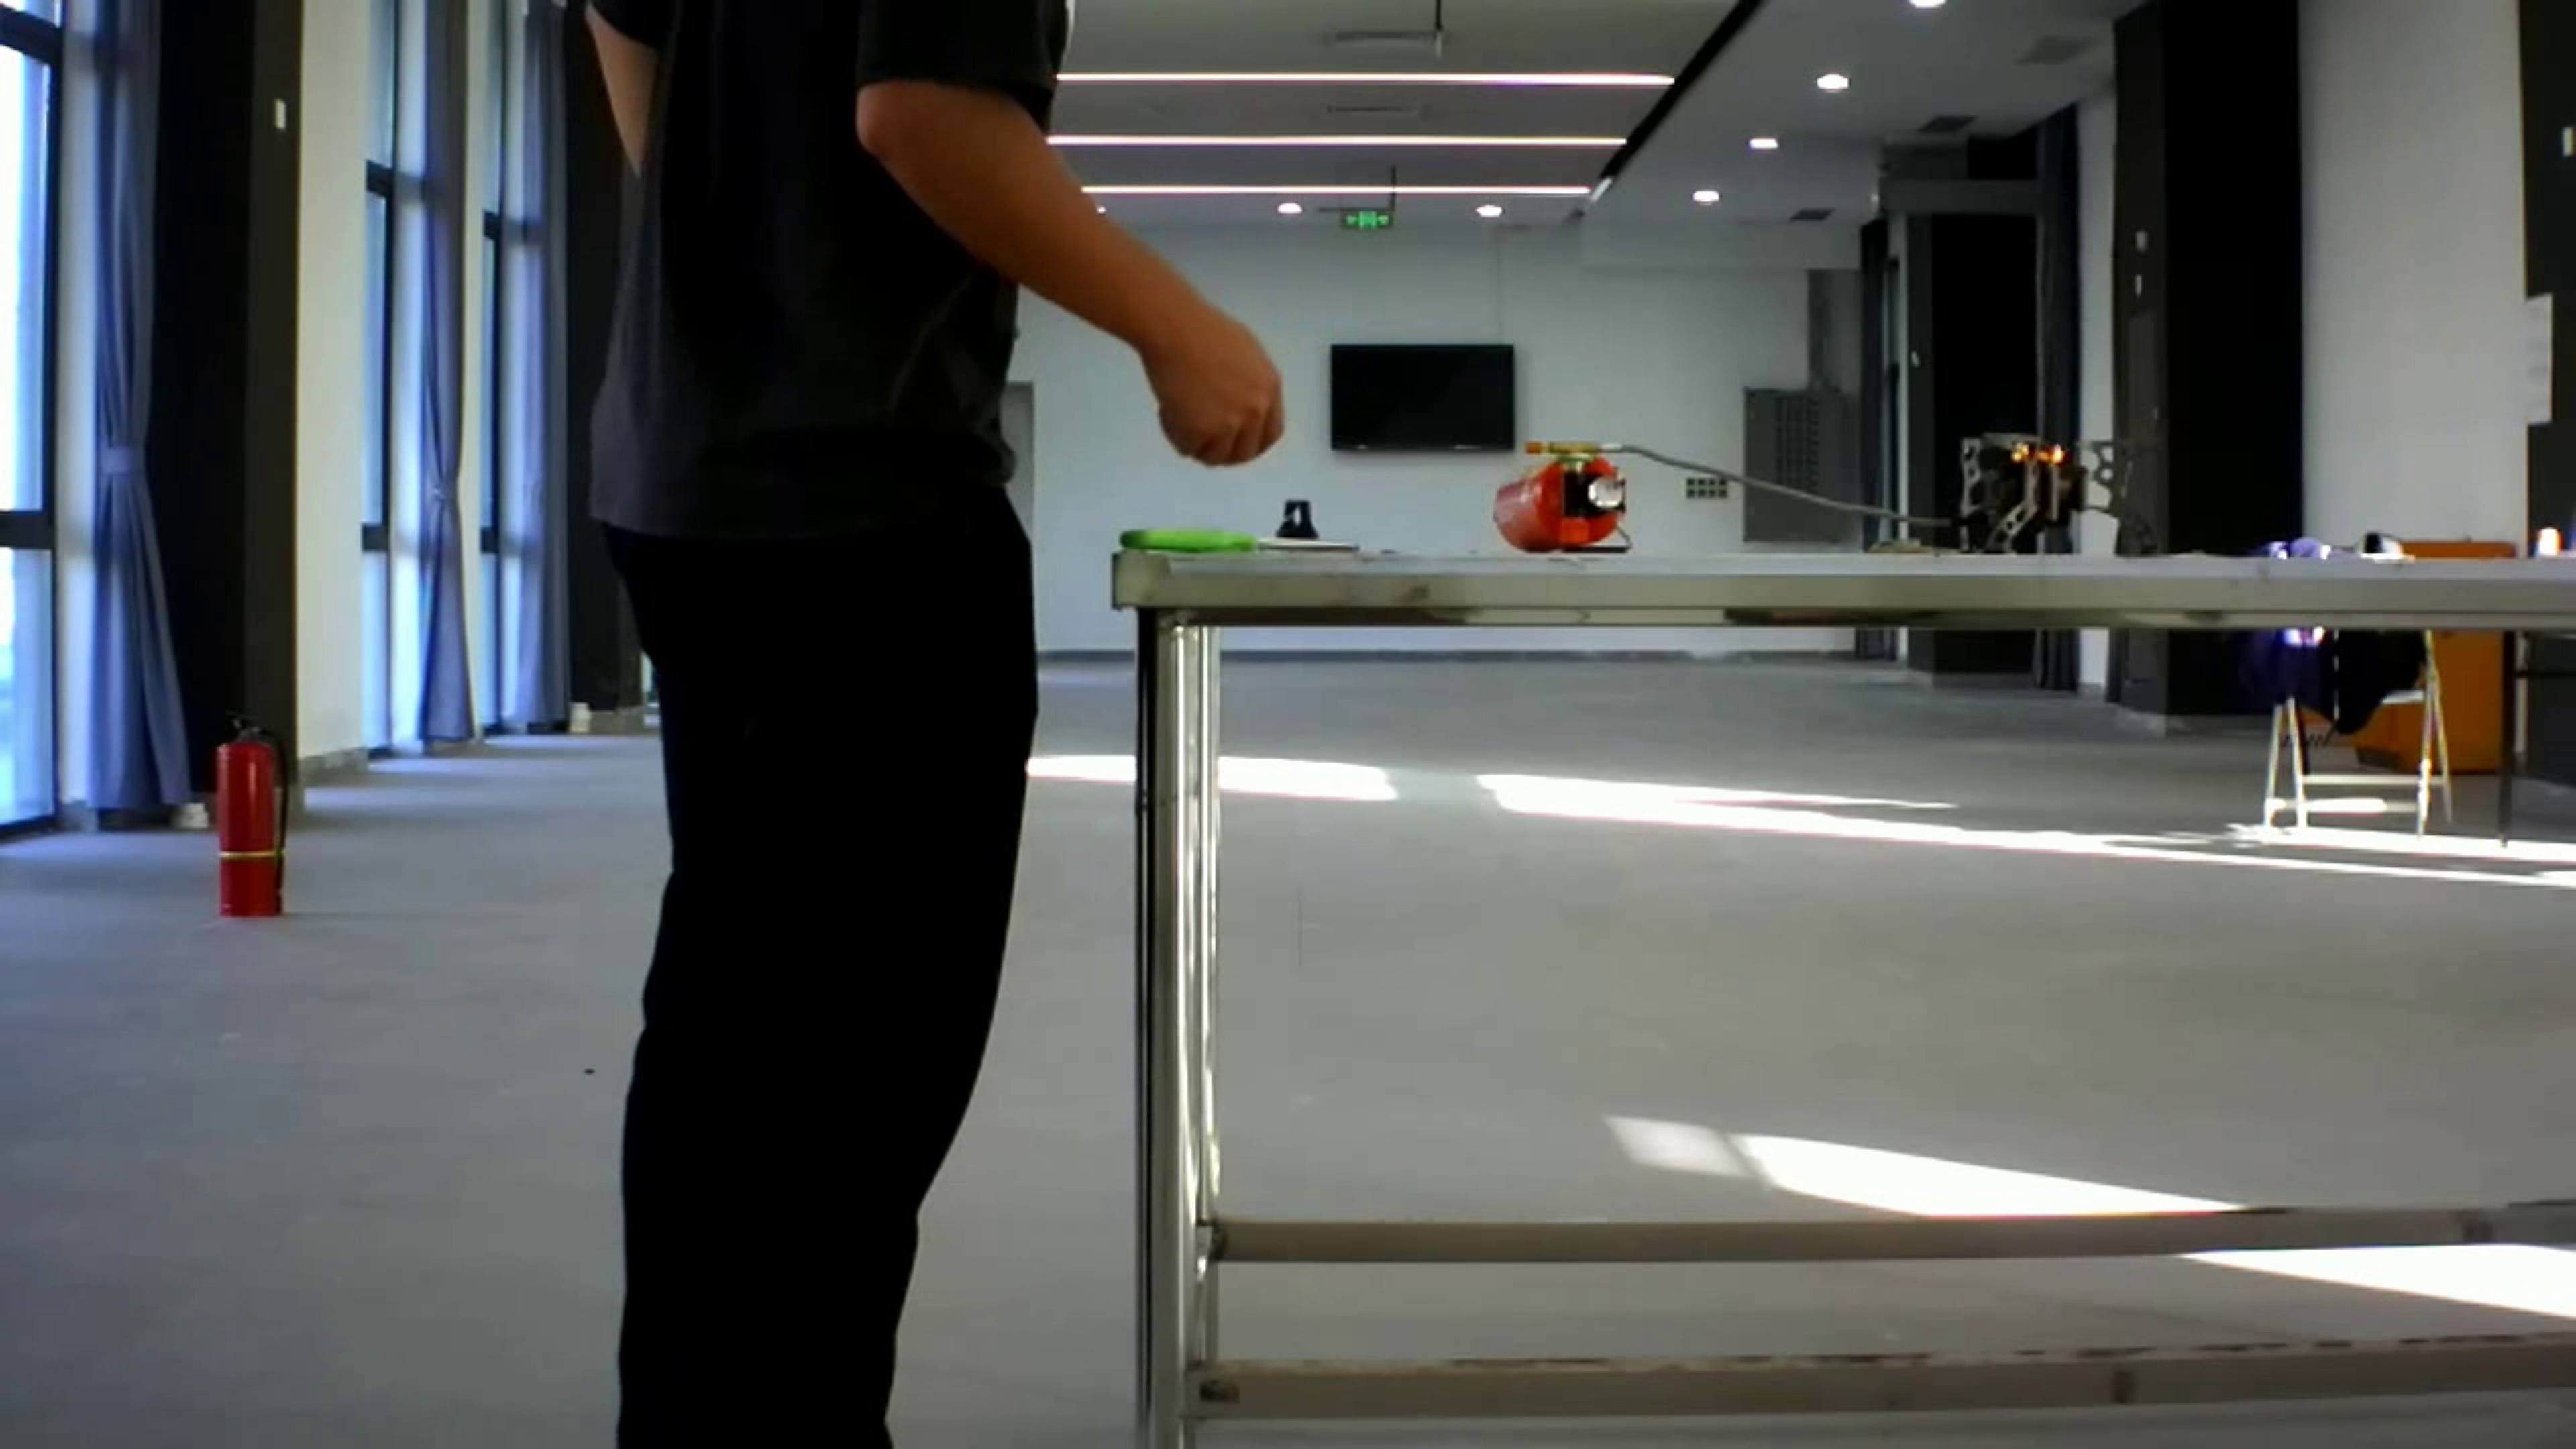Fire: (2005, 414, 2077, 478)
